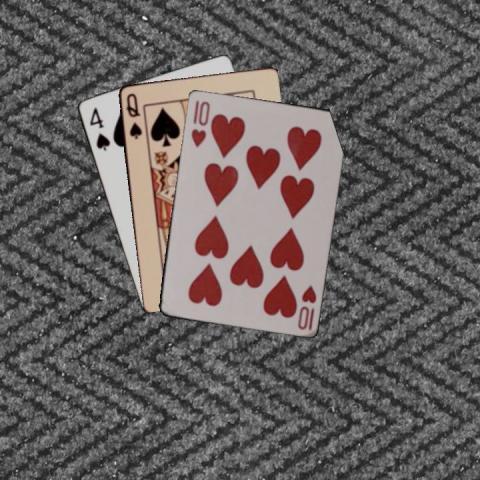10h: (188, 96, 211, 148), (294, 282, 317, 331)
4s: (86, 105, 111, 149)
Qs: (123, 90, 143, 141)
